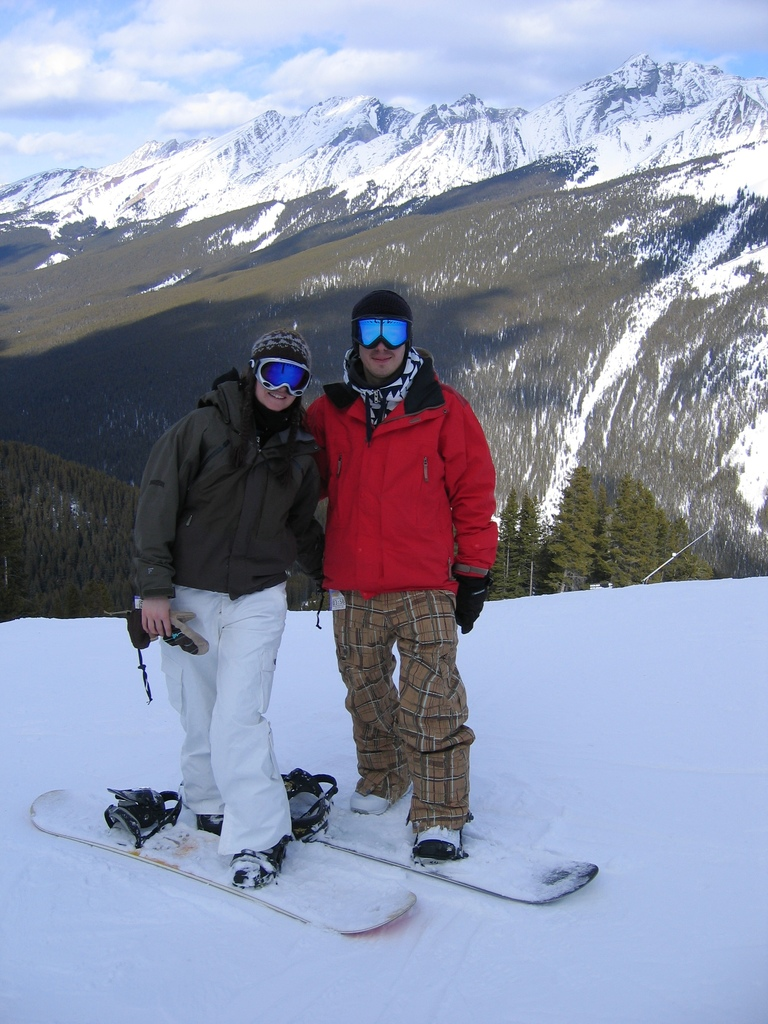Tree: (0, 439, 715, 623)
